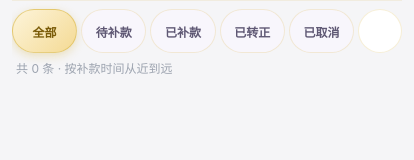
Scenario: PreorderMobileFilterBar › 搜索默认收起，点图标展开并聚焦输入框
Click the button named "搜索预购".
click(380, 31)  # box [358,9,402,53]
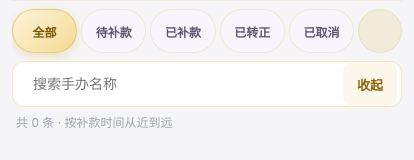
Check: the element showing "收起" is shown, box [12,61,402,107]
